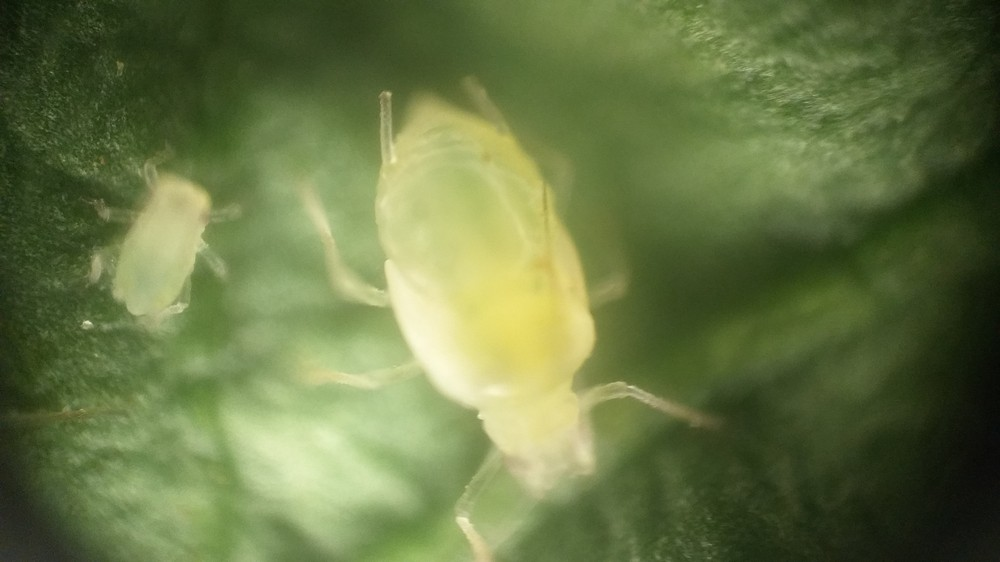Pulgon: (283, 66, 764, 557), (74, 138, 258, 356)
